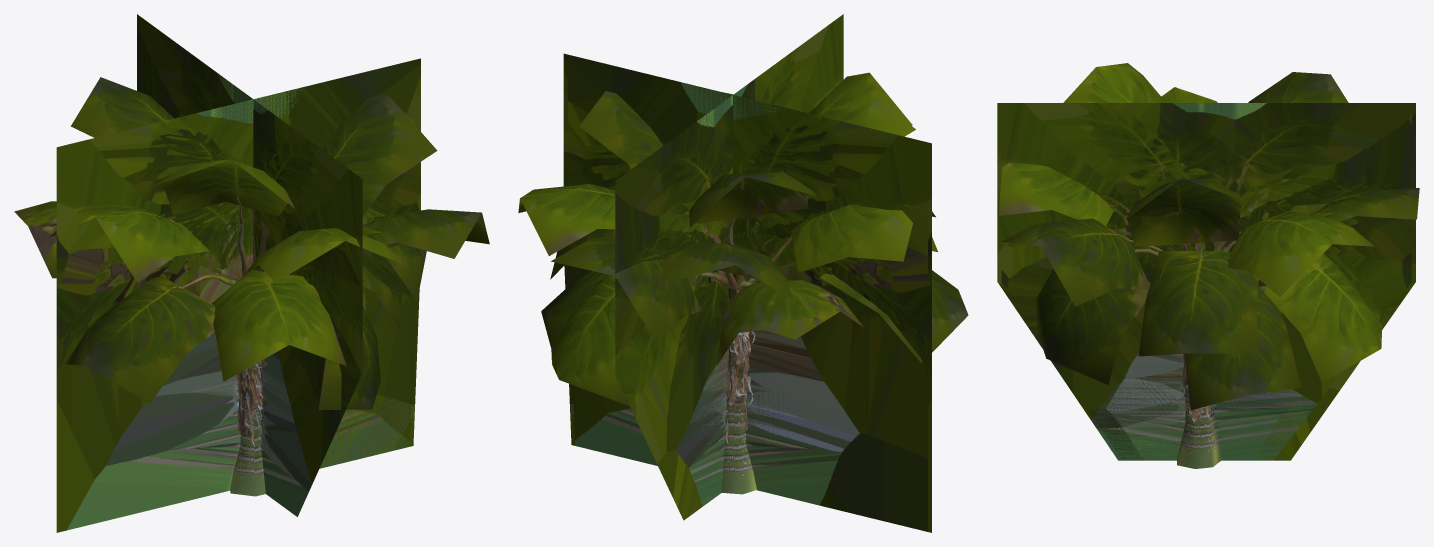
File: Monstera2.fbx
The picture shows the model from 3 angles, left to right: view 1: azimuth 30°, elevation 25°; view 2: azimuth 150°, elevation 25°; view 3: azimuth 270°, elevation 25°; orthographic projection. The views are drawn at different scales.
Visible parts, largest first — view 1: Billboard, LOD0; view 2: Billboard, LOD0; view 3: Billboard, LOD0.
Boxes of the visible parts, x1,y1,x2,y2 form: Billboard: (56,14,420,532); LOD0: (14,77,489,496); Billboard: (563,14,931,532); LOD0: (518,72,968,494); Billboard: (997,103,1415,460); LOD0: (998,63,1419,468).
Size of what is drawn, in the model's own units: 222 by 222 by 237.
